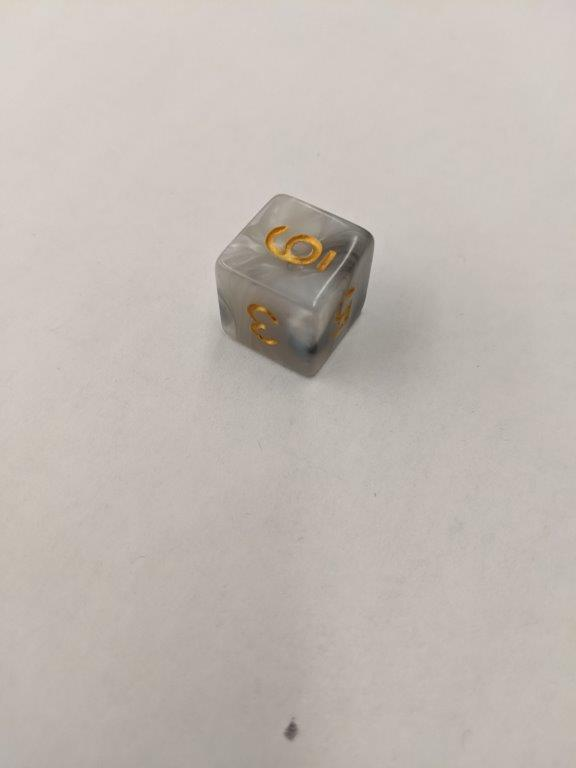d6-6: (215, 190, 376, 381)
